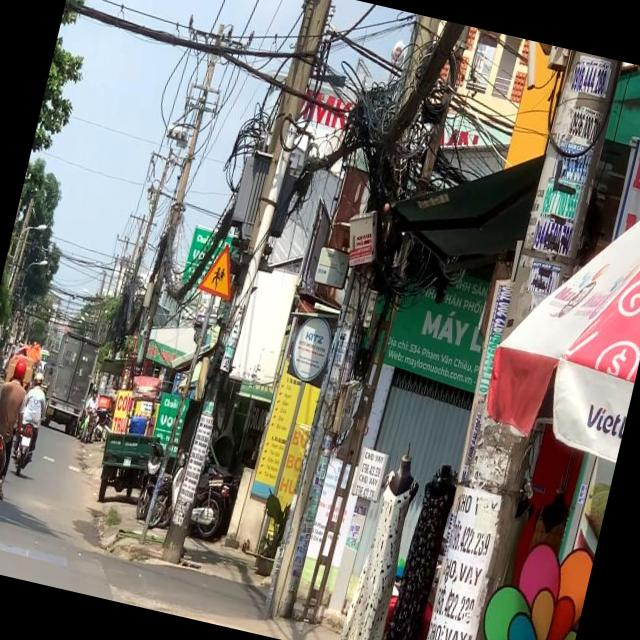W-225: (194, 238, 240, 304)
